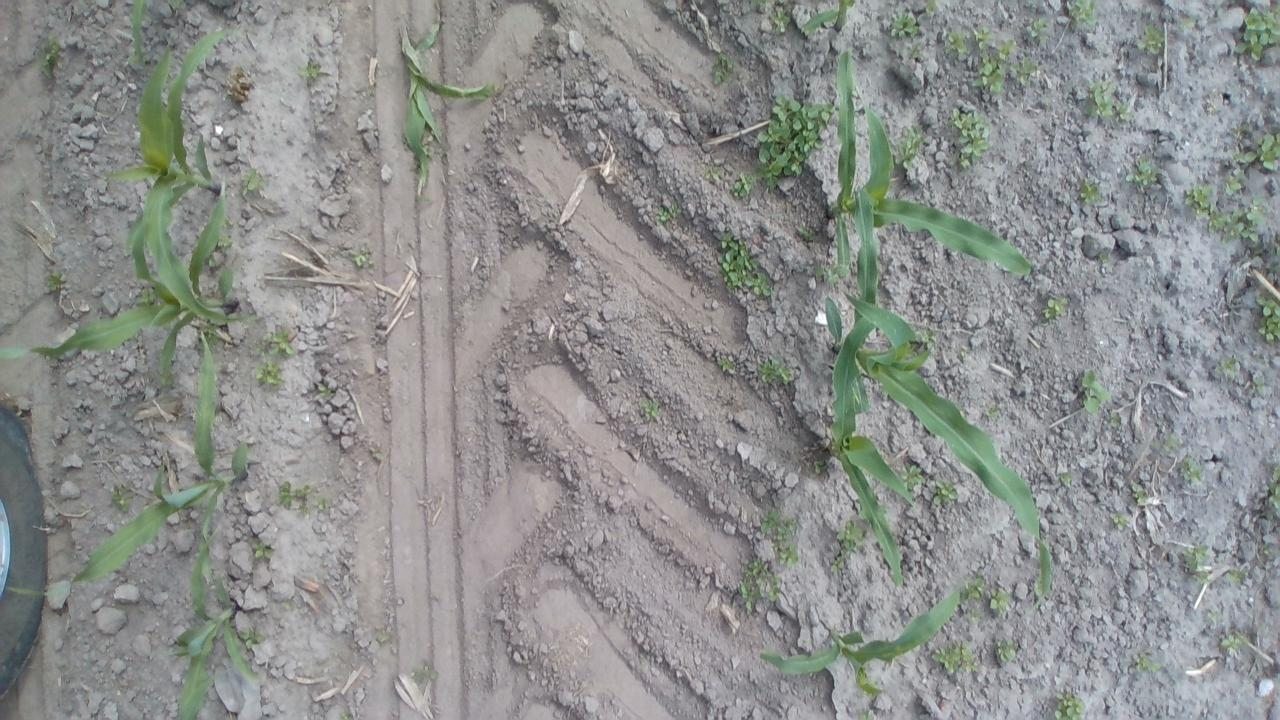Maize: (813, 182, 1059, 608), (17, 329, 244, 633), (806, 47, 1048, 322), (0, 176, 243, 402), (123, 19, 249, 338), (796, 294, 926, 596), (747, 580, 979, 711), (170, 534, 256, 720), (795, 0, 860, 44)
Weeds: (758, 92, 834, 194), (712, 231, 769, 300), (946, 99, 1001, 168), (750, 508, 807, 574), (1081, 78, 1141, 126), (736, 558, 788, 612), (926, 636, 984, 678), (1208, 204, 1263, 243), (1233, 8, 1278, 54), (1235, 126, 1280, 172), (965, 58, 1009, 103), (747, 350, 794, 388), (1074, 369, 1112, 413), (1178, 542, 1216, 584), (1122, 154, 1164, 189), (1133, 20, 1168, 59), (264, 322, 304, 356), (38, 34, 66, 82), (1007, 54, 1043, 90), (893, 127, 924, 168), (1256, 292, 1280, 344), (1062, 0, 1103, 30), (1181, 183, 1217, 217), (349, 239, 382, 276), (103, 480, 136, 516), (274, 477, 313, 507), (1022, 12, 1054, 47), (254, 360, 288, 392), (762, 5, 792, 40), (992, 638, 1023, 671), (937, 29, 972, 58), (836, 516, 864, 552), (1050, 694, 1088, 720), (1074, 179, 1108, 208), (930, 480, 959, 514), (1210, 630, 1246, 657), (308, 378, 340, 408), (1131, 480, 1159, 514), (712, 52, 738, 88), (887, 14, 923, 40), (1044, 292, 1070, 328), (1220, 168, 1248, 200), (899, 38, 930, 66), (814, 261, 850, 285), (37, 264, 70, 290), (656, 200, 685, 229), (714, 348, 738, 383), (1170, 452, 1200, 480), (300, 58, 329, 86), (1262, 474, 1280, 519), (242, 167, 268, 198), (234, 628, 262, 656), (1156, 429, 1181, 460), (982, 399, 1006, 431), (1128, 652, 1157, 678), (1216, 354, 1246, 379), (642, 394, 668, 422), (831, 547, 854, 578), (411, 660, 439, 684), (904, 462, 928, 490), (733, 170, 755, 200), (249, 538, 274, 564), (373, 620, 399, 645), (971, 28, 996, 54), (991, 38, 1016, 64), (990, 592, 1015, 618), (1222, 566, 1246, 593), (911, 324, 940, 346), (967, 575, 989, 603), (952, 598, 981, 619), (1200, 604, 1226, 627), (810, 456, 831, 482), (310, 498, 338, 516), (210, 232, 232, 254), (923, 0, 947, 20), (956, 340, 976, 364), (703, 161, 723, 184), (1109, 512, 1131, 532), (1060, 470, 1072, 486)
